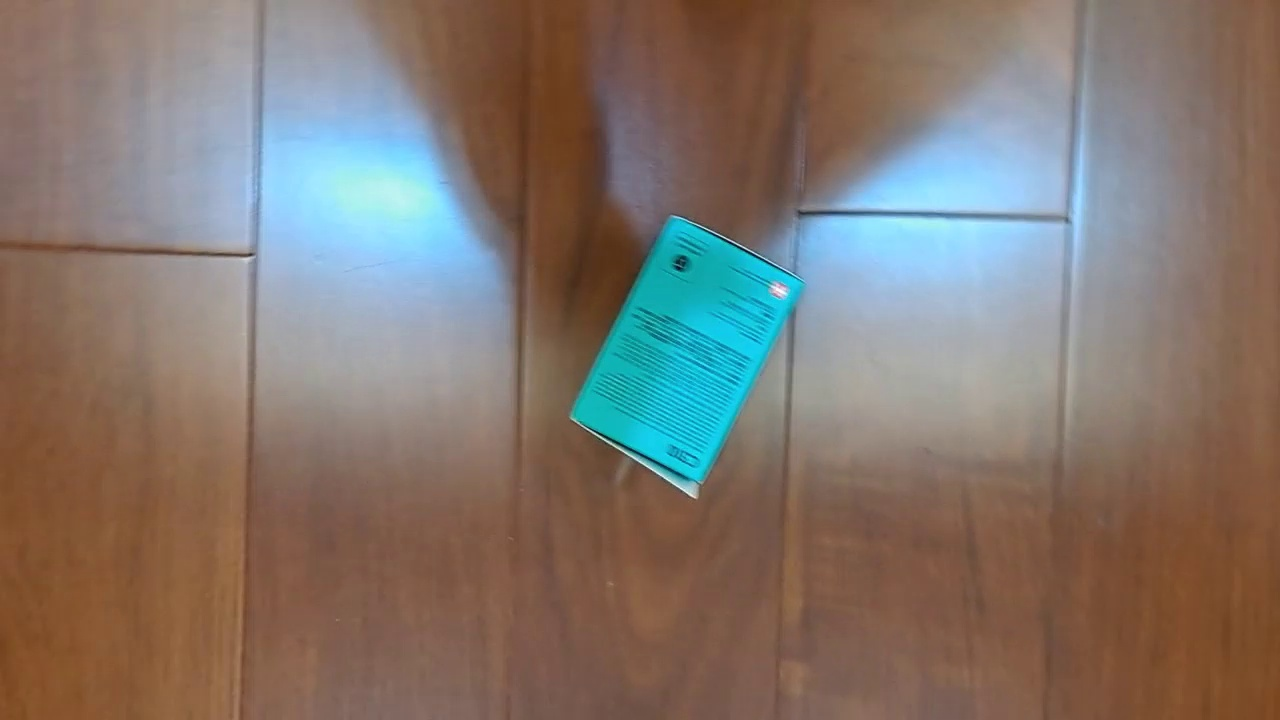webcam: (568, 213, 807, 500)
